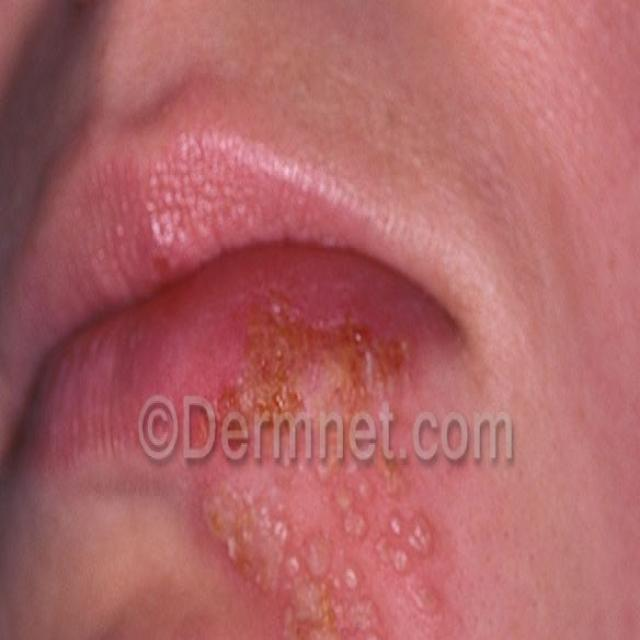Viral Infections: (196, 301, 457, 640)
